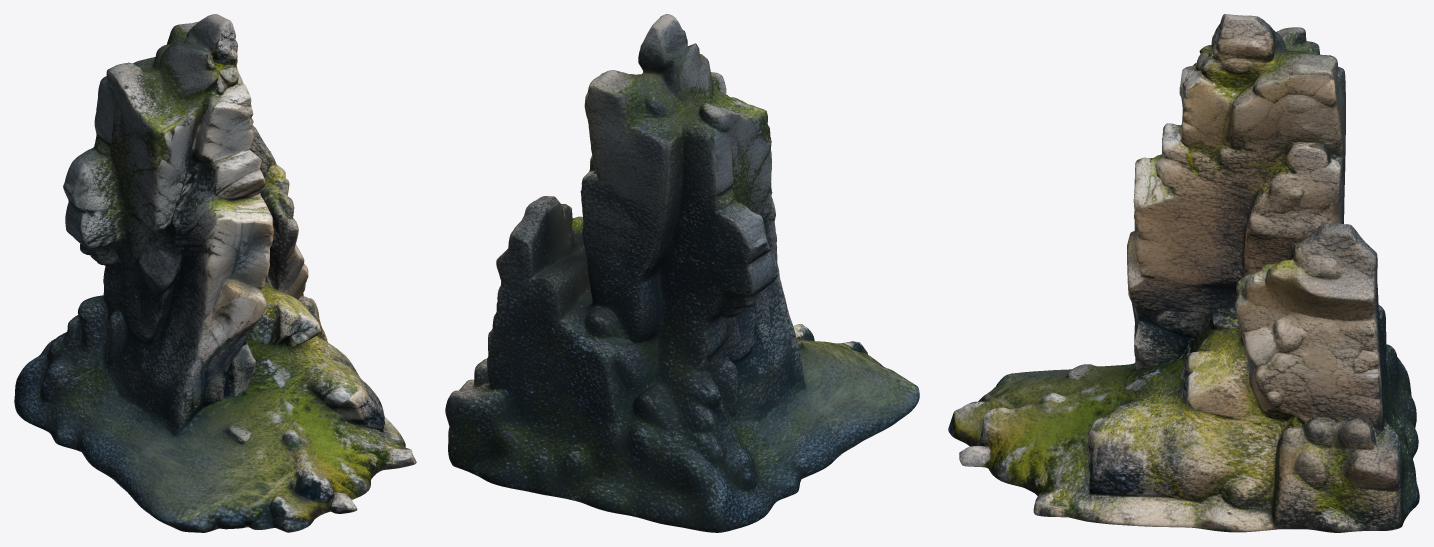
The model's file is cuc_da_2.glb.
The picture shows the model from 3 angles, left to right: view 1: azimuth 30°, elevation 25°; view 2: azimuth 150°, elevation 25°; view 3: azimuth 270°, elevation 25°; orthographic projection. The views are drawn at different scales.
Visible parts, largest first — view 1: node_0; view 2: node_0; view 3: node_0.
Boxes of the visible parts, bbox=[...] form: node_0: bbox=[14, 14, 416, 532]; node_0: bbox=[445, 14, 919, 532]; node_0: bbox=[948, 14, 1419, 532].
Size of the model in its own units: 0.5963 by 0.8 by 0.7679.
Materials: 1 (1 with a texture image).
